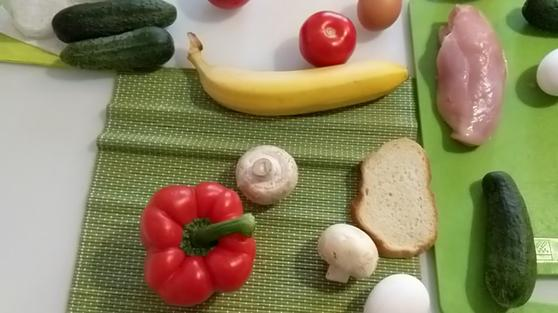banana: (174, 49, 414, 120)
champignon: (303, 217, 384, 292), (238, 143, 303, 206)
chicken_fillet: (427, 1, 514, 150)
cucumber: (478, 168, 544, 313), (51, 25, 178, 73), (41, 1, 180, 37)
egg: (363, 270, 438, 313), (353, 1, 408, 37), (530, 41, 558, 96)
pepper: (138, 180, 259, 311)
tomato: (296, 10, 359, 68)
white_bread: (353, 132, 442, 262)
